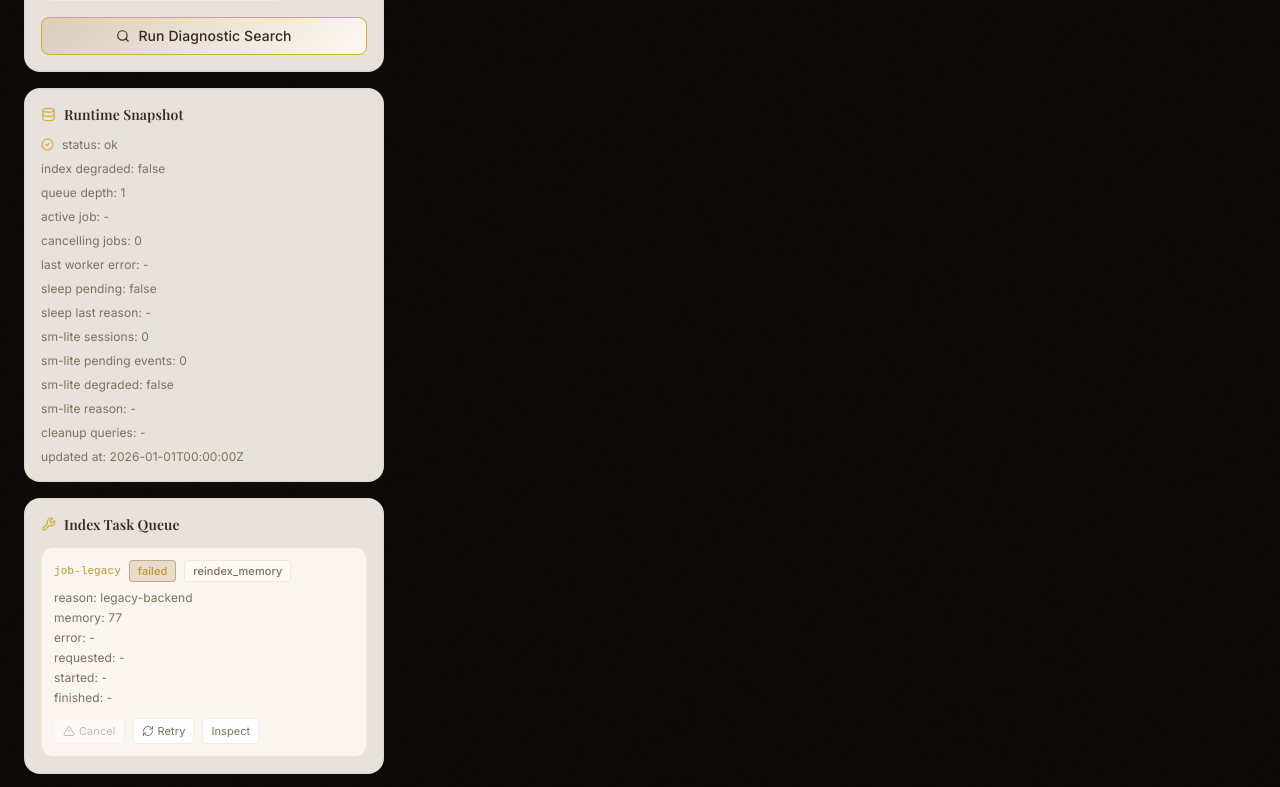
Test case: ObservabilityPage › falls back to old backend endpoint when retry API is unsupported
(page scrolled)
Expected: the text "job-legacy" is shown, [54,564,121,576]
Step 1. Click the button "Retry" → (164, 730), box [133,718,194,744]
(page scrolled)
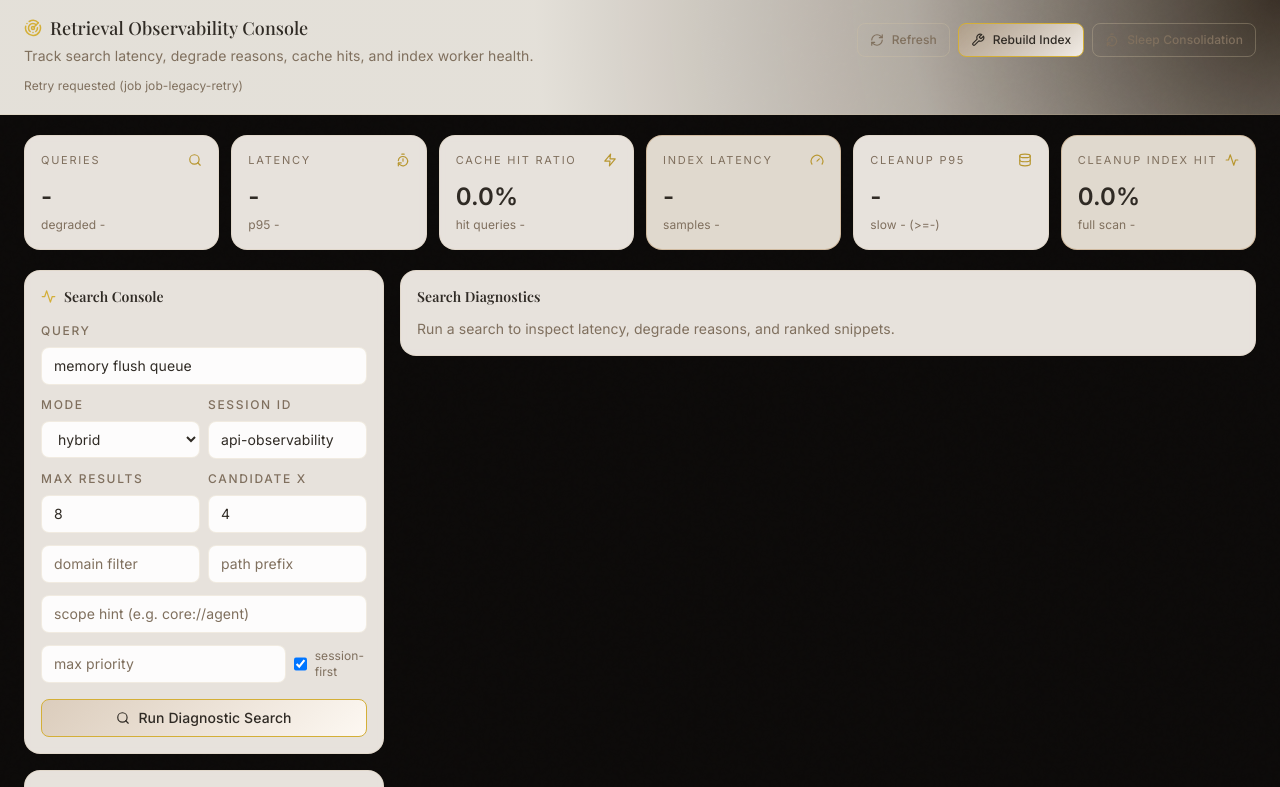
Expected: the text "Retry requested (job job-legacy-retry)" is shown, [24,78,243,93]
